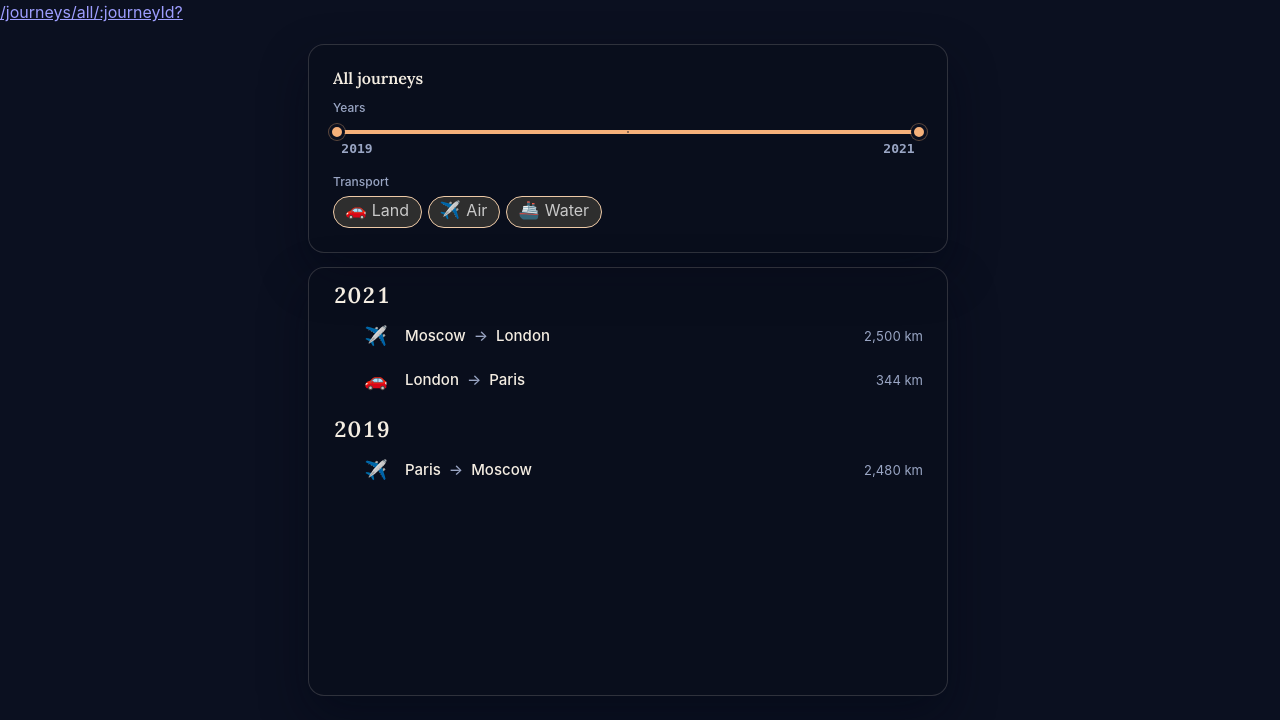
Test: AllJourneysView — карточка поездки › в карточке заглушки фотоотчёта и впечатлений с пометкой «скоро»
The width and height of the screenshot is (1280, 720).
Click the link named "Moscow to London" at (435, 336), box [365,325,923,347]
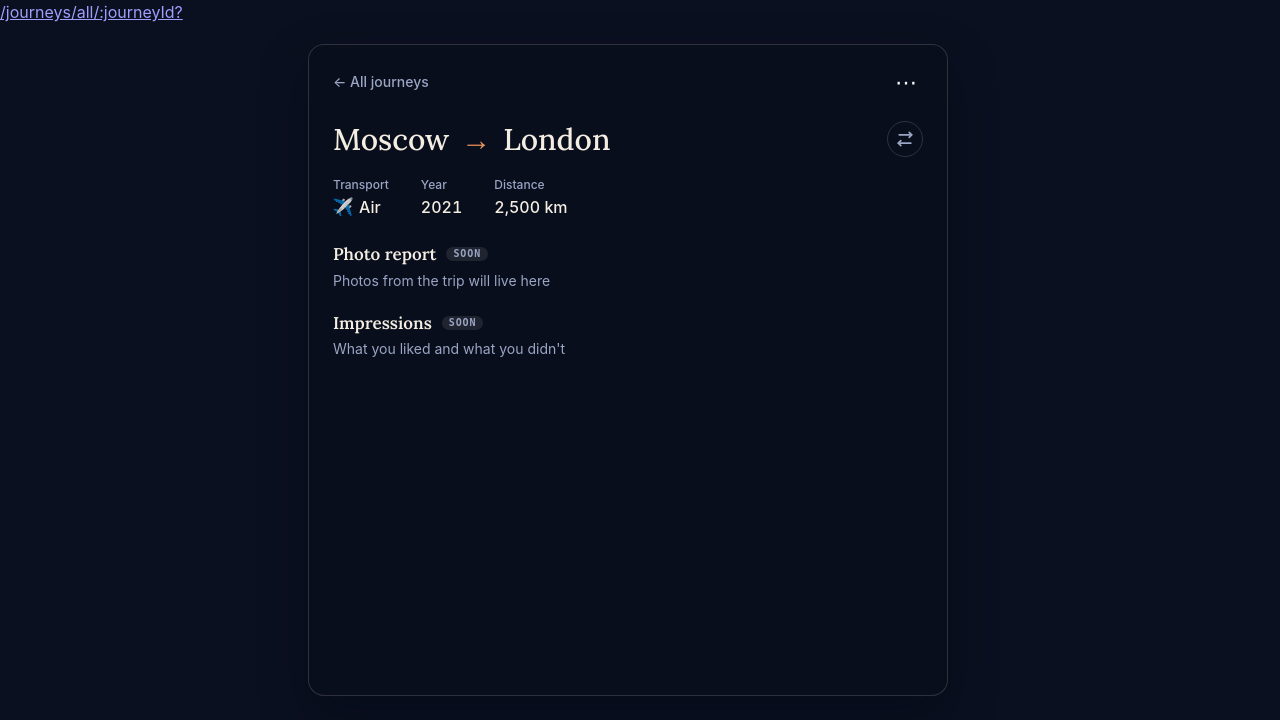
Expected: the heading named "Moscow to London" is shown, [327,119,616,175]
Expected: the heading "Photo report Soon" is shown, [333,243,488,265]
Expected: the heading "Impressions Soon" is shown, [333,312,484,334]
